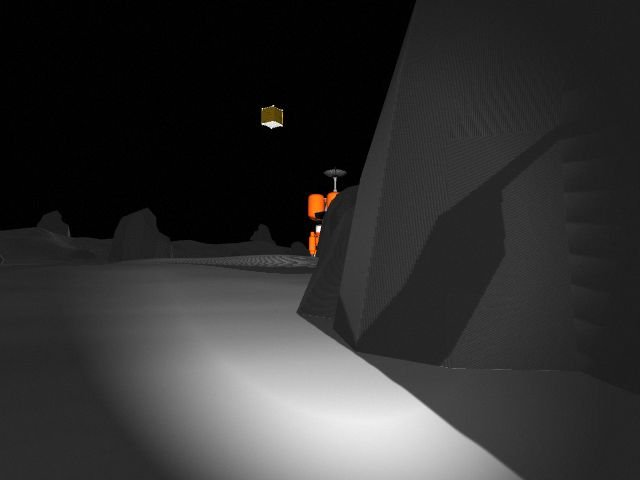cubesat: (255, 101, 287, 132)
